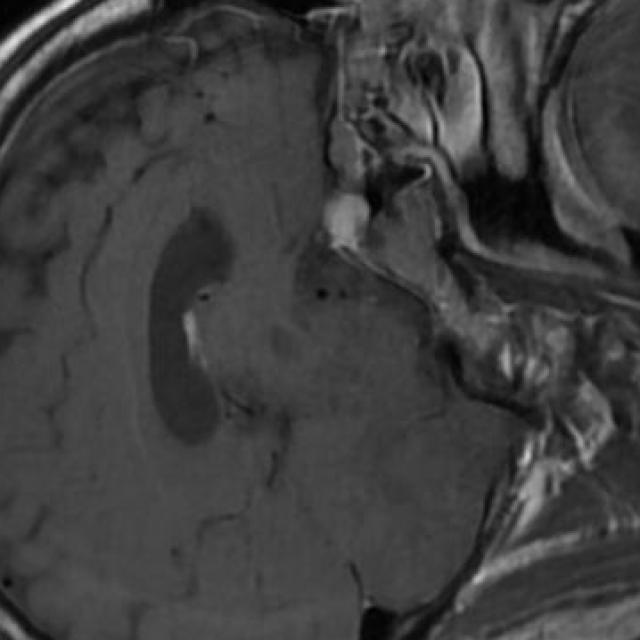pituitary: (323, 193, 371, 246)
